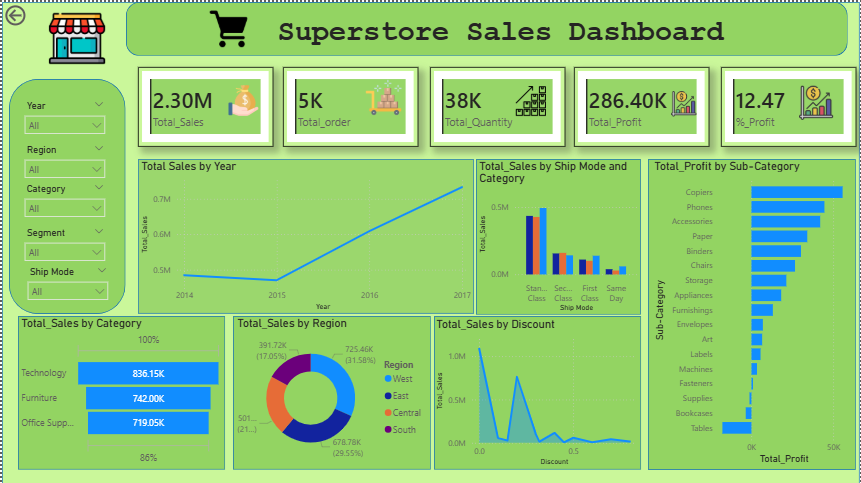

The page's visual inventory and layout, read from the dashboard file:
{"tool":"powerbi","page":{"name":"Page 1","canvas":[1280,720],"ordinal":0},"visuals":[{"type":"shape","box":[0,0,1280,720],"z":0},{"type":"shape","box":[10.8,115.4,173.8,350.8],"z":1000},{"type":"shape","box":[184.4,0,1077.1,80.5],"z":2000},{"type":"textbox","box":[405.4,16.1,768.3,80.5],"z":3000},{"type":"image","box":[0,11.7,223.9,84.9],"z":4000},{"type":"textbox","box":[459.5,5.9,714.1,74.6],"z":5000},{"type":"cardVisual","fields":{"Data":["Measure.Total_Sales"]},"box":[203.4,96.6,202,118.5],"z":6000},{"type":"cardVisual","fields":{"Data":["Measure.Total_order"]},"box":[420,96.6,202,118.5],"z":7000},{"type":"cardVisual","fields":{"Data":["Measure.Total_Quantity"]},"box":[639.5,96.6,202,118.5],"z":8000},{"type":"cardVisual","fields":{"Data":["Measure.Total_Profit"]},"box":[853.2,96.6,202,118.5],"z":9000},{"type":"cardVisual","fields":{"Data":["Measure.%_Profit"]},"box":[1072.7,96.6,202,118.5],"z":10000},{"type":"shape","box":[203.1,233.8,501.5,230.8],"z":11000},{"type":"lineChart","title":"Total Sales by Year","fields":{"Y":["Measure.Total_Sales"],"Category":["Date Table.Date Hierarchy.Year"]},"box":[203.1,233.8,501.5,230.8],"z":12000},{"type":"shape","box":[707.7,233.8,246.2,232.3],"z":13000},{"type":"shape","box":[344.6,469.2,295.4,229.2],"z":14000},{"type":"shape","box":[644.6,469.2,309.2,229.2],"z":15000},{"type":"shape","box":[964.4,234.1,310.2,463.9],"z":16000},{"type":"clusteredColumnChart","fields":{"Y":["Measure.Total_Sales"],"Series":["Superstore.Category"],"Category":["Superstore.Ship Mode"]},"box":[707.7,233.8,246.2,232.3],"z":17000},{"type":"clusteredBarChart","fields":{"Category":["Superstore.Sub-Category"],"Y":["Measure.Total_Profit"]},"box":[968.8,234.1,311.7,461],"z":18000},{"type":"shape","box":[24.6,469.2,309.2,229.2],"z":19000},{"type":"donutChart","fields":{"Category":["Superstore.Region"],"Y":["Measure.Total_Sales"]},"box":[346.2,469.2,293.8,226.2],"z":20000},{"type":"funnel","fields":{"Category":["Superstore.Category","Superstore.Sub-Category"],"Y":["Measure.Total_Sales"]},"box":[24.6,469.2,309.2,226.2],"z":22000},{"type":"image","box":[333.8,124.6,52.3,46.2],"z":23000},{"type":"image","box":[532.3,115.4,73.8,55.4],"z":24000},{"type":"image","box":[998.5,121.5,38.5,61.5],"z":25000},{"type":"image","box":[1189.8,115.6,51.2,70.2],"z":26000},{"type":"image","box":[290.8,10.8,95.4,56.9],"z":27000},{"type":"image","box":[758.5,124.6,61.5,47.7],"z":28000},{"type":"slicer","fields":{"Values":["Date Table.Year"]},"box":[24.6,141.5,140,58.5],"z":29000},{"type":"slicer","fields":{"Values":["Superstore.Region"]},"box":[24.6,207.7,140,58.5],"z":30000},{"type":"slicer","fields":{"Values":["Superstore.Category"]},"box":[24.6,266.2,140,58.5],"z":31000},{"type":"slicer","fields":{"Values":["Superstore.Segment"]},"box":[24.6,330.8,140,58.5],"z":32000},{"type":"slicer","fields":{"Values":["Superstore.Ship Mode"]},"box":[27.7,389.2,140,58.5],"z":33000},{"type":"actionButton","box":[0,0,100,40],"z":33001},{"type":"areaChart","fields":{"Category":["Superstore.Discount"],"Y":["Measure.Total_Sales"]},"box":[643.9,469.8,308.8,226.8],"z":33002}]}

Visuals, with their boxes in screenshot pixels (x1, y1, x2, y2), scaled from the page's 1280x720 canvas onto the 861x483 screenshot:
shape: locate(0, 0, 860, 482)
shape: locate(7, 77, 124, 313)
shape: locate(124, 0, 849, 54)
textbox: locate(273, 11, 789, 65)
image: locate(0, 8, 151, 65)
textbox: locate(309, 4, 789, 54)
cardVisual - Measure.Total_Sales: locate(137, 65, 273, 144)
cardVisual - Measure.Total_order: locate(283, 65, 418, 144)
cardVisual - Measure.Total_Quantity: locate(430, 65, 566, 144)
cardVisual - Measure.Total_Profit: locate(574, 65, 710, 144)
cardVisual - Measure.%_Profit: locate(722, 65, 857, 144)
shape: locate(137, 157, 474, 312)
"Total Sales by Year" lineChart: locate(137, 157, 474, 312)
shape: locate(476, 157, 642, 313)
shape: locate(232, 315, 430, 469)
shape: locate(434, 315, 642, 469)
shape: locate(649, 157, 857, 468)
clusteredColumnChart - Measure.Total_Sales x Superstore.Category: locate(476, 157, 642, 313)
clusteredBarChart - Superstore.Sub-Category x Measure.Total_Profit: locate(652, 157, 860, 466)
shape: locate(17, 315, 225, 469)
donutChart - Superstore.Region x Measure.Total_Sales: locate(233, 315, 430, 466)
funnel - Superstore.Category x Superstore.Sub-Category: locate(17, 315, 225, 466)
image: locate(225, 84, 260, 115)
image: locate(358, 77, 408, 115)
image: locate(672, 82, 698, 123)
image: locate(800, 78, 835, 125)
image: locate(196, 7, 260, 45)
image: locate(510, 84, 552, 116)
slicer - Date Table.Year: locate(17, 95, 111, 134)
slicer - Superstore.Region: locate(17, 139, 111, 179)
slicer - Superstore.Category: locate(17, 179, 111, 218)
slicer - Superstore.Segment: locate(17, 222, 111, 261)
slicer - Superstore.Ship Mode: locate(19, 261, 113, 300)
actionButton: locate(0, 0, 67, 27)
areaChart - Superstore.Discount x Measure.Total_Sales: locate(433, 315, 641, 467)
